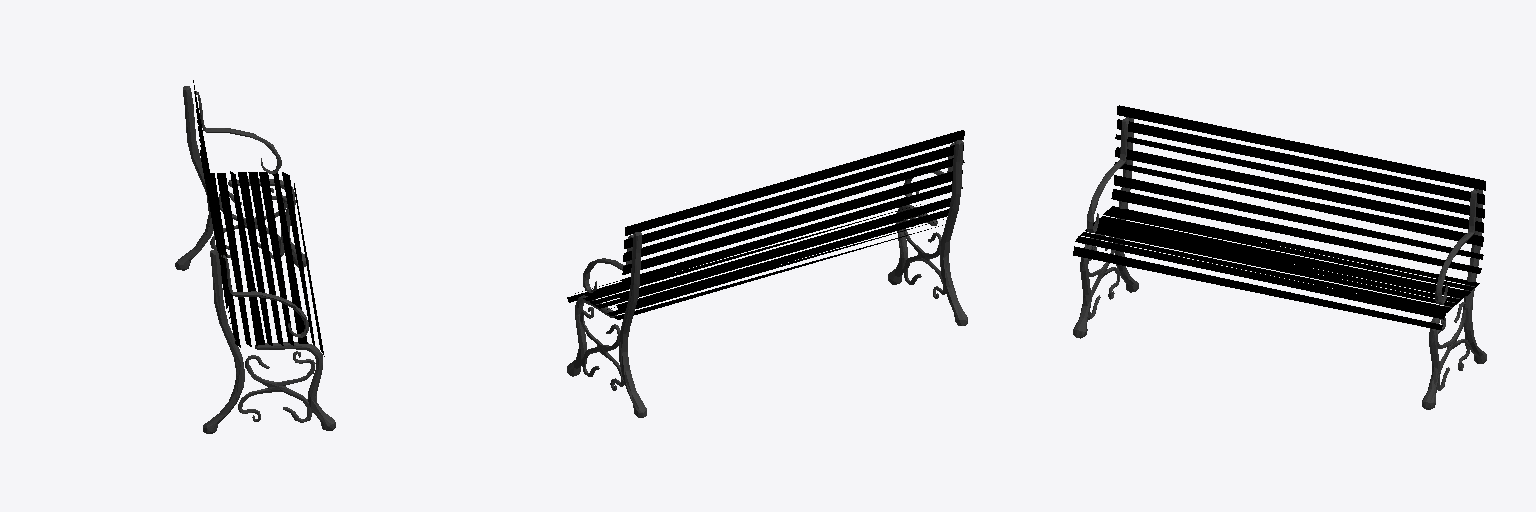
3 renders of one model, left to right at view 1: azimuth 30°, elevation 25°; view 2: azimuth 150°, elevation 25°; view 3: azimuth 270°, elevation 25°, orthographic.
Visible parts, largest first — view 1: banca:Mesh; view 2: banca:Mesh; view 3: banca:Mesh.
Boxes of the visible parts, box(x1,y1,x2,y2) form: banca:Mesh: box(175, 80, 335, 433); banca:Mesh: box(567, 130, 967, 417); banca:Mesh: box(1073, 105, 1486, 409).
Bounding box in the file's own units: 10.78 × 7.74 × 15.39.
4 materials, 1 textured.